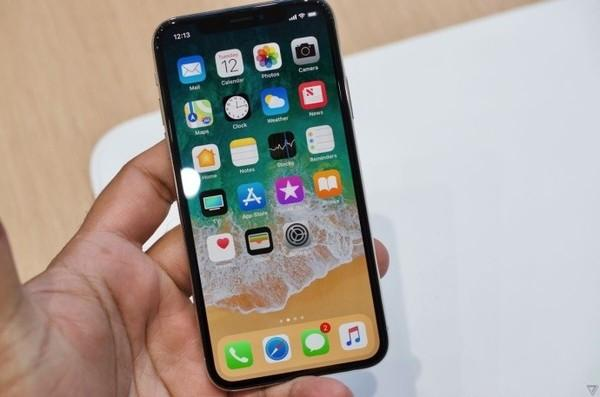phone: (156, 12, 389, 360)
